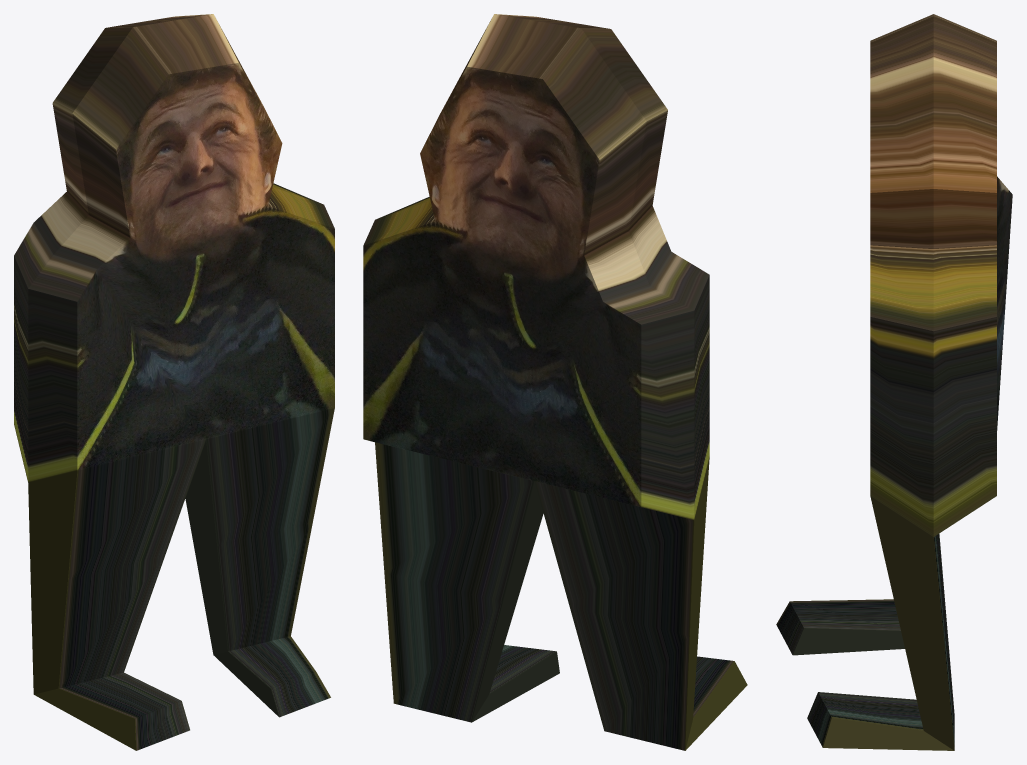
The model's file is benji1.glb.
3 views of the same model, side by side, from view 1: azimuth 30°, elevation 25°; view 2: azimuth 150°, elevation 25°; view 3: azimuth 270°, elevation 25° (orthographic). The views are drawn at different scales.
Parts seen in each view (by area): view 1: Screenshot 2025-09-27 163236; view 2: Screenshot 2025-09-27 163236; view 3: Screenshot 2025-09-27 163236.
Part boxes in pixels (x1,y1,x2,y2): Screenshot 2025-09-27 163236: (14,14,334,750); Screenshot 2025-09-27 163236: (363,14,747,750); Screenshot 2025-09-27 163236: (776,14,1012,750).
Size of the model in its own units: 0.6173 by 1.32 by 0.4275.
Materials: 1 (1 with a texture image).
